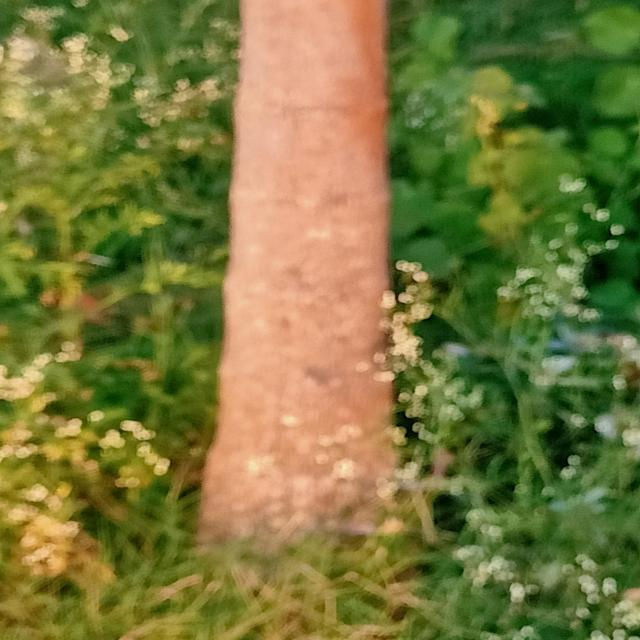Healthy_Foot: (142, 110, 482, 482)
